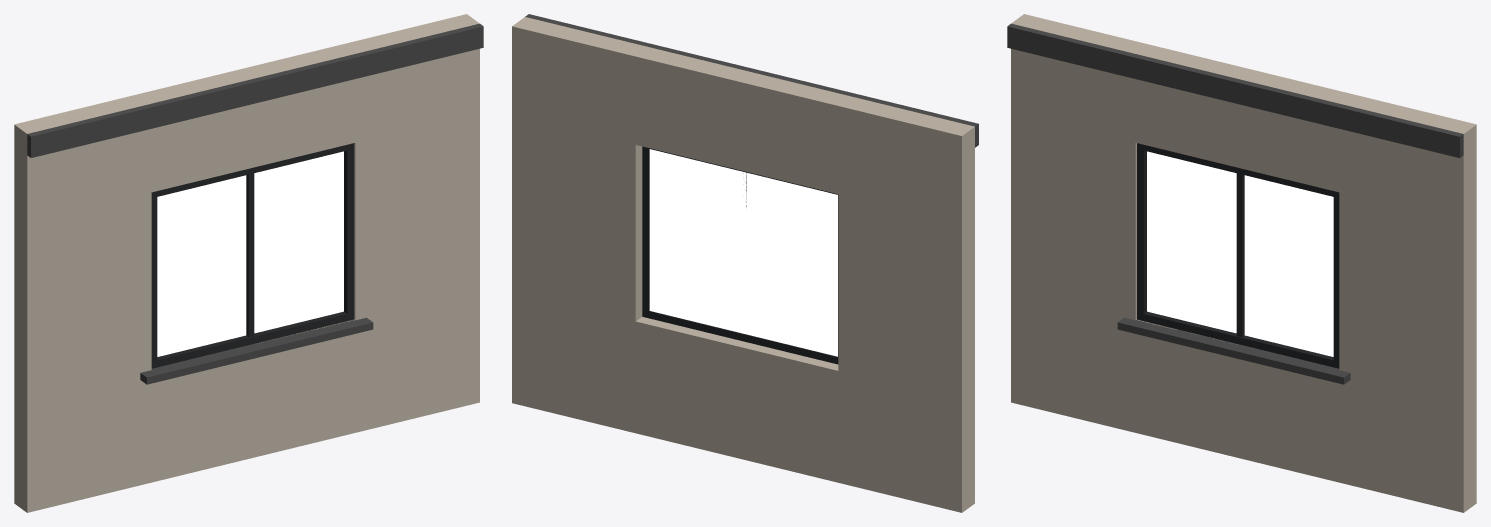
Rendered from KIT_Wall_4m_WindowLit_Plaster.glb.
The picture shows the model from 3 angles, left to right: view 1: azimuth 30°, elevation 25°; view 2: azimuth 150°, elevation 25°; view 3: azimuth 330°, elevation 25°; orthographic projection.
Parts seen in each view (by area): view 1: KIT_Wall_4m_WindowLit_Plaster; view 2: KIT_Wall_4m_WindowLit_Plaster; view 3: KIT_Wall_4m_WindowLit_Plaster.
Boxes of the visible parts, left/top/right/bottom form: KIT_Wall_4m_WindowLit_Plaster: left=14, top=14, right=483, bottom=512; KIT_Wall_4m_WindowLit_Plaster: left=512, top=14, right=978, bottom=512; KIT_Wall_4m_WindowLit_Plaster: left=1007, top=14, right=1476, bottom=512.
Size of the model in its own units: 4 by 3.2 by 0.3.
